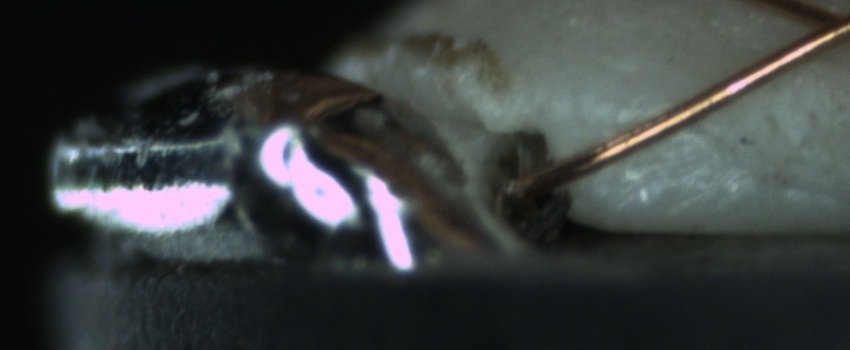CL: (782, 0, 848, 59)
